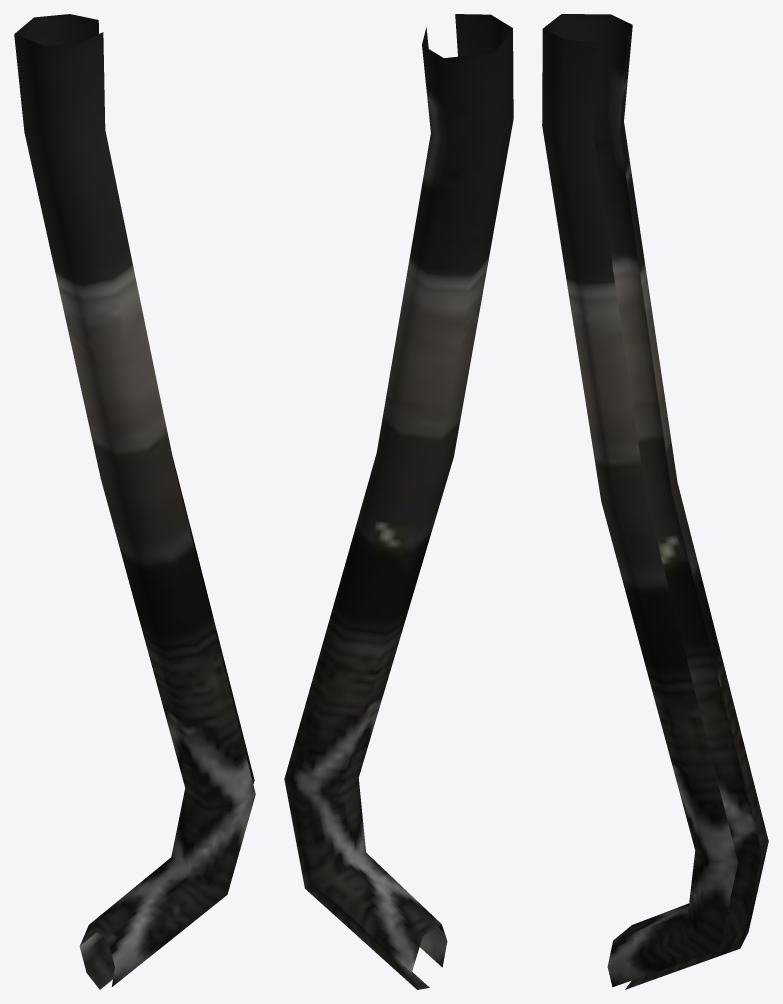
Rendered from p_glo_briefcase_bomb_hose_b.glb.
3 renders of one model, left to right at view 1: azimuth 30°, elevation 25°; view 2: azimuth 150°, elevation 25°; view 3: azimuth 330°, elevation 25°, orthographic.
Visible parts, largest first — view 1: p_glo_briefcase_bomb_hose_b; view 2: p_glo_briefcase_bomb_hose_b; view 3: p_glo_briefcase_bomb_hose_b.
Part boxes in pixels (x1,y1,x2,y2): p_glo_briefcase_bomb_hose_b: (14, 14, 255, 989); p_glo_briefcase_bomb_hose_b: (284, 14, 513, 989); p_glo_briefcase_bomb_hose_b: (542, 14, 768, 989).
Bounding box in the file's own units: 0.0391 × 0.1635 × 0.0175.
Materials: 1 (1 with a texture image).
